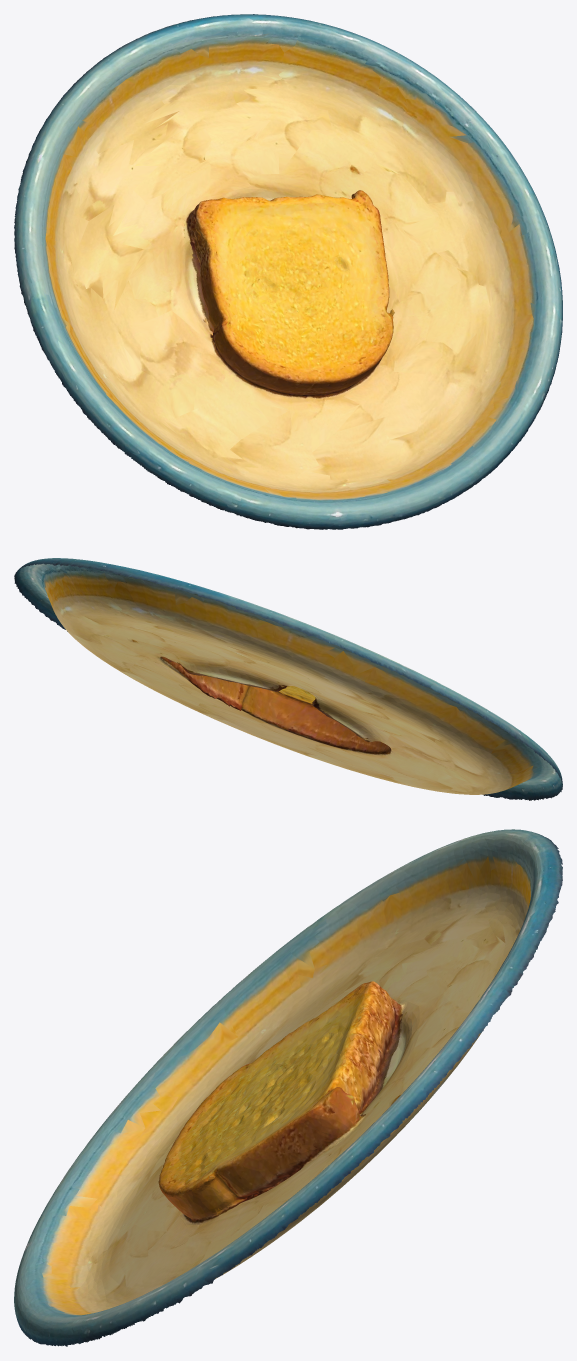
Rendered from Zwieback.fbx.
3 renders of one model, top to bottom at view 1: azimuth 30°, elevation 25°; view 2: azimuth 150°, elevation 25°; view 3: azimuth 270°, elevation 25°, orthographic. The views are drawn at different scales.
Visible parts, largest first — view 1: Zwieback_tex_high; view 2: Zwieback_tex_high; view 3: Zwieback_tex_high.
Part boxes in pixels (x1,y1,x2,y2): Zwieback_tex_high: (14, 14, 562, 529); Zwieback_tex_high: (14, 558, 562, 800); Zwieback_tex_high: (14, 829, 562, 1346).
Bounding box in the file's own units: 19.8 × 13.06 × 15.05.
